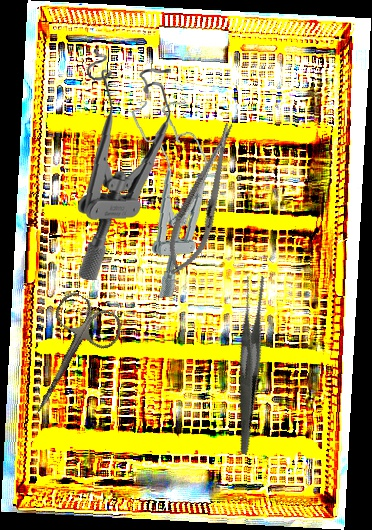Dressing Forceps: (185, 270, 311, 456)
Iris Scissors: (6, 288, 128, 430)
Needle Holder: (156, 116, 250, 282)
Speculum: (71, 46, 179, 281), (130, 97, 217, 299)
